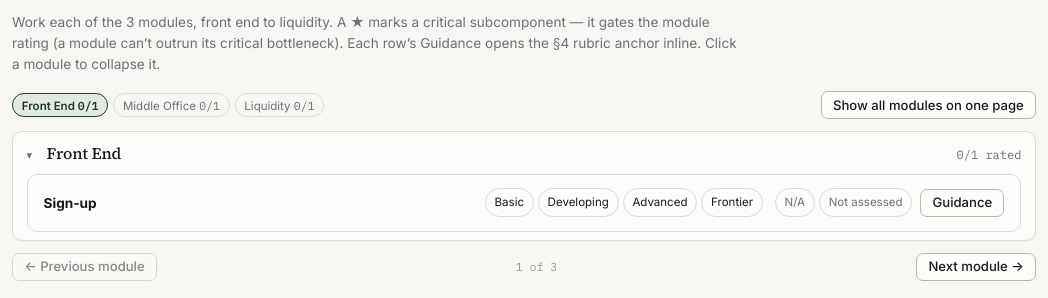
Scenario: Infrastructure step paging (GRS-0181) › moves between modules, not between subcomponents
The width and height of the screenshot is (1048, 298).
Click the button "Next module →": (976, 267) [916,253,1036,280]
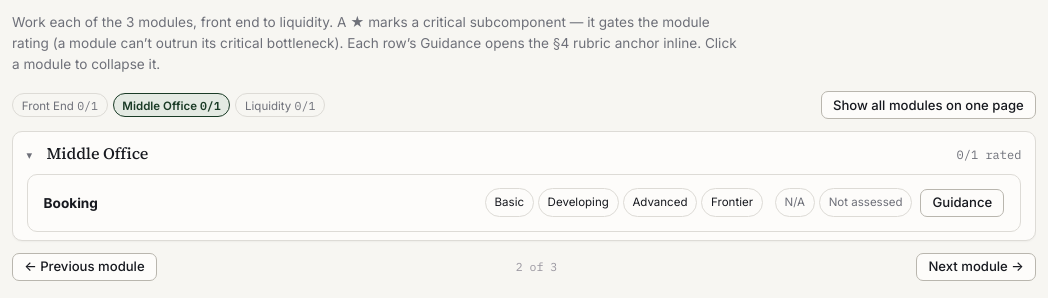
Expected: the text "Booking" is shown, [44,195,98,211]
Expected: the text "Sign-up" is gone
Click the button "← Previous module": (84, 267) [12,253,157,280]
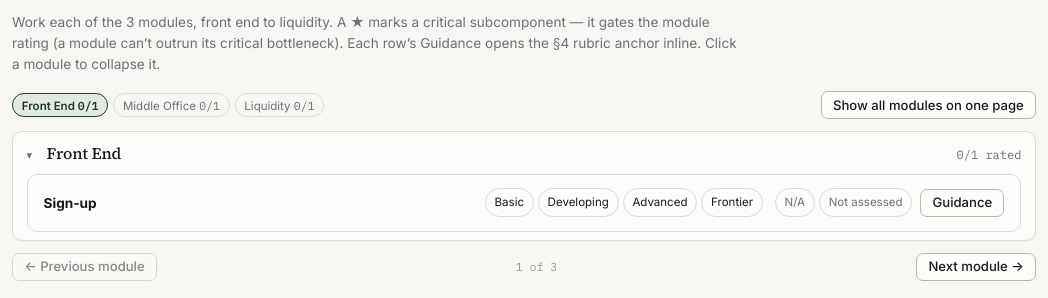
Expected: the text "Sign-up" is shown, [44,195,97,211]
